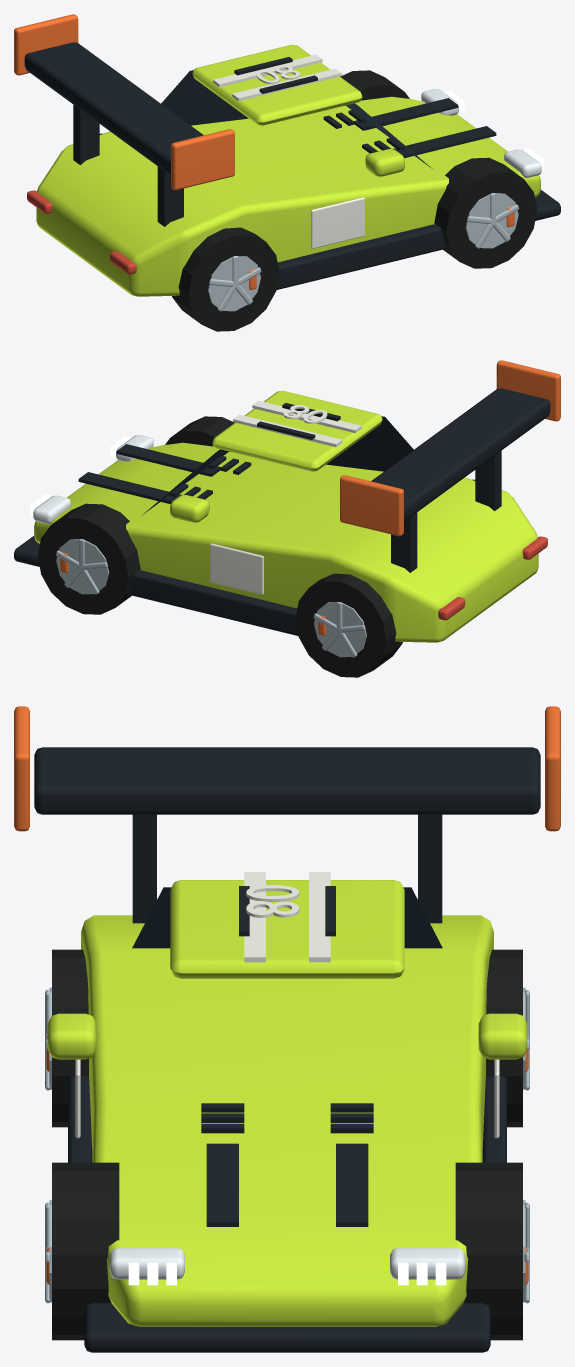
The model's file is race-gt.glb.
3 renders of one model, top to bottom at view 1: azimuth 30°, elevation 25°; view 2: azimuth 150°, elevation 25°; view 3: azimuth 270°, elevation 25°, orthographic. The views are drawn at different scales.
Parts seen in each view (by area): view 1: GT_body, GT_rear_wing, GT_tyre.002, GT_roof, GT_tyre, GT_side_skirt, GT_wing_endplate, GT_glazing, GT_door_roundel, GT_wing_endplate.001, GT_alloy, GT_alloy.002 (+12 smaller); view 2: GT_body, GT_rear_wing, GT_tyre.003, GT_roof, GT_tyre.001, GT_side_skirt.001, GT_wing_endplate.001, GT_glazing, GT_door_roundel.001, GT_wing_endplate, GT_alloy.001, GT_alloy.003 (+12 smaller); view 3: GT_body, GT_rear_wing, GT_roof, GT_splitter, GT_tyre.002, GT_tyre.003, GT_tyre, GT_tyre.001, GT_glazing, GT_hood_race_stripe, GT_hood_race_stripe.001, GT_wing_mount (+12 smaller).
Part boxes in pixels (x1,y1,x2,y2): GT_body: (36,96,540,296); GT_rear_wing: (24,42,203,175); GT_tyre.002: (434,157,537,268); GT_roof: (192,44,362,125); GT_tyre: (172,227,279,331); GT_side_skirt: (276,224,446,289); GT_wing_endplate: (171,129,234,190); GT_glazing: (161,70,433,169); GT_door_roundel: (311,197,364,248); GT_wing_endplate.001: (14,14,78,75); GT_alloy: (208,256,260,311); GT_alloy.002: (465,193,518,248); GT_body: (34,442,538,642); GT_rear_wing: (371,388,550,521); GT_tyre.003: (37,503,140,614); GT_roof: (212,390,382,471); GT_tyre.001: (295,573,402,677); GT_side_skirt.001: (128,570,298,635); GT_wing_endplate.001: (340,475,403,536); GT_glazing: (141,416,413,515); GT_door_roundel.001: (210,543,263,594); GT_wing_endplate: (496,360,560,421); GT_alloy.001: (314,602,366,657); GT_alloy.003: (56,539,109,594); GT_body: (81,915,493,1326); GT_rear_wing: (34,747,540,814); GT_roof: (170,880,404,978); GT_splitter: (84,1303,490,1352); GT_tyre.002: (52,1162,119,1340); GT_tyre.003: (455,1162,522,1340); GT_tyre: (52,949,88,1127); GT_tyre.001: (486,949,522,1127); GT_glazing: (132,887,442,948); GT_hood_race_stripe: (206,1143,238,1226); GT_hood_race_stripe.001: (336,1143,368,1226); GT_wing_mount: (132,814,156,923).
Size of the model in its own units: 0.309 by 0.146 by 0.2031.
